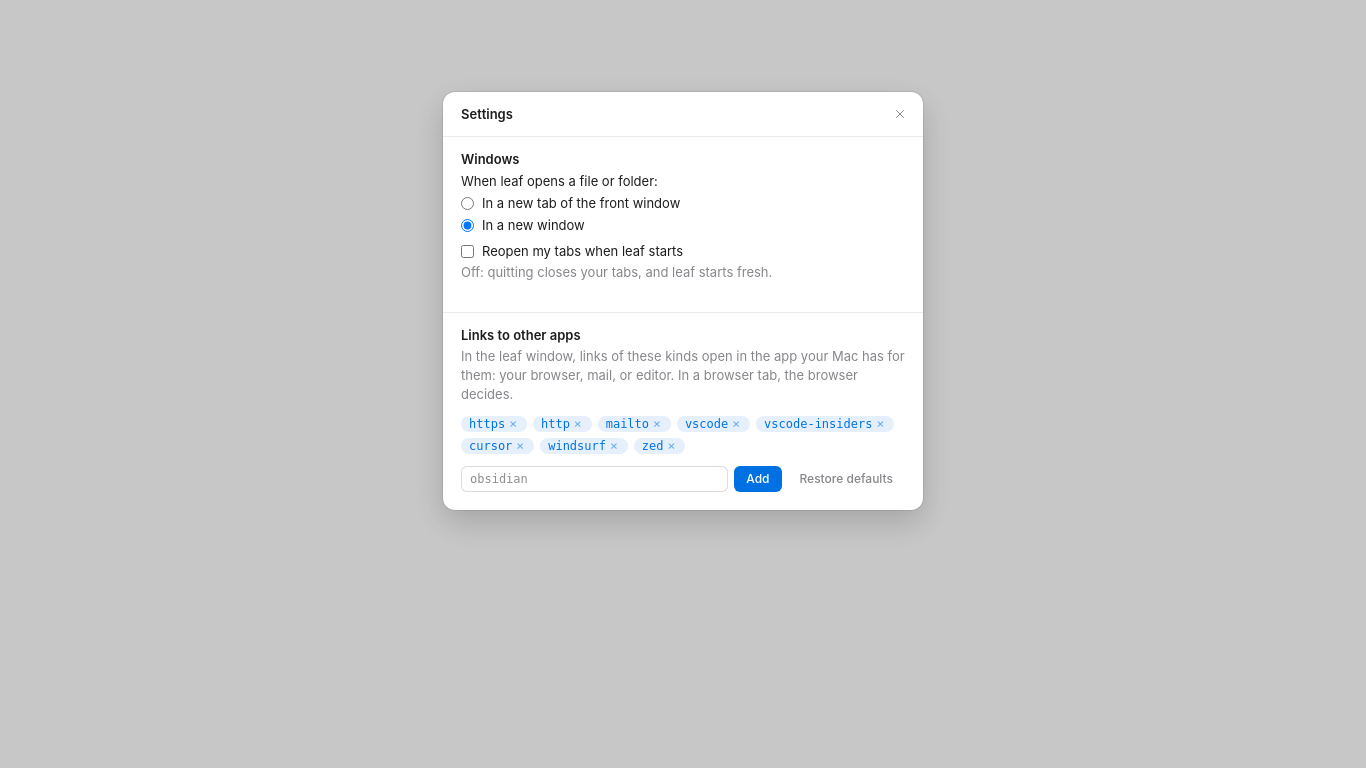
Test: Settings › refuses kinds that run code, and anything that isn’t a scheme, saying why
Type "javascript" into the field named "Add a link kind" at point(595, 478), box [461,466,728,492]
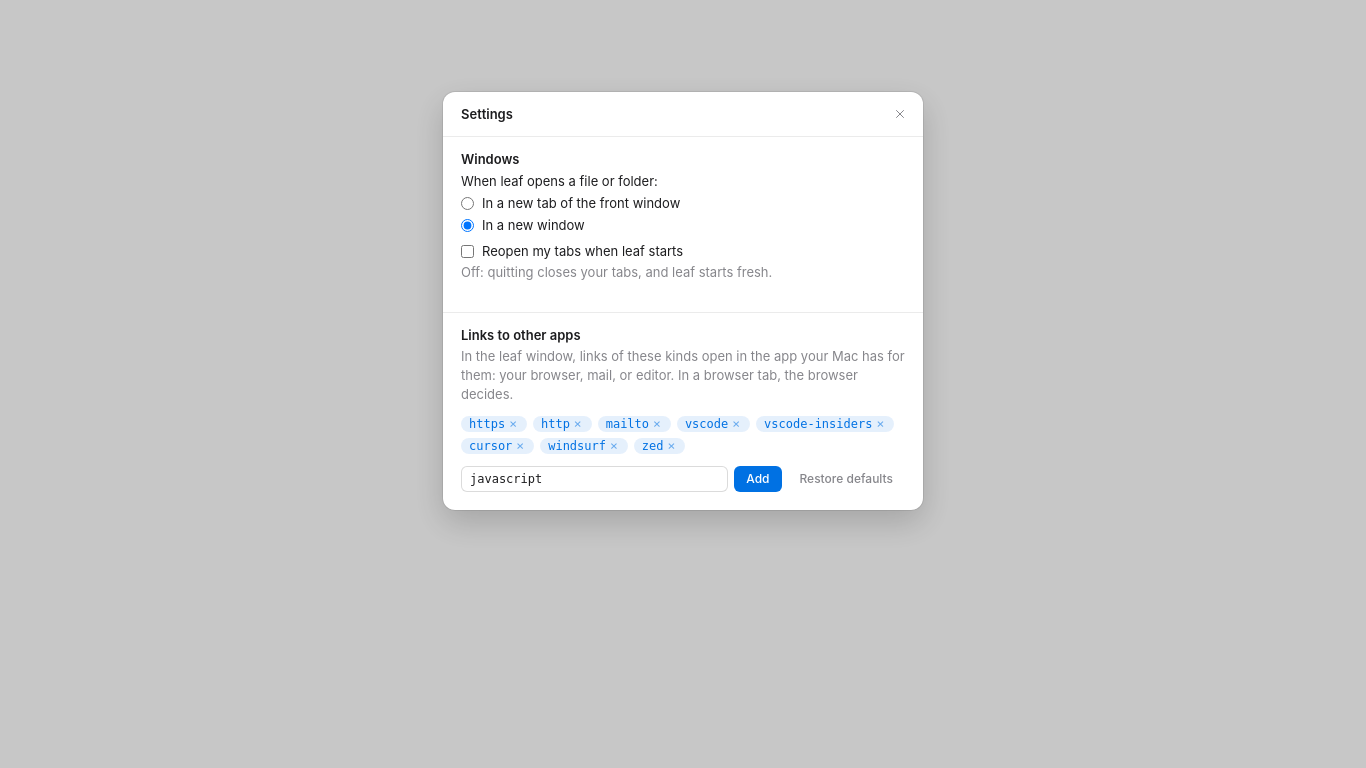
Submit the form named "Add a link kind", box [461,466,905,492]
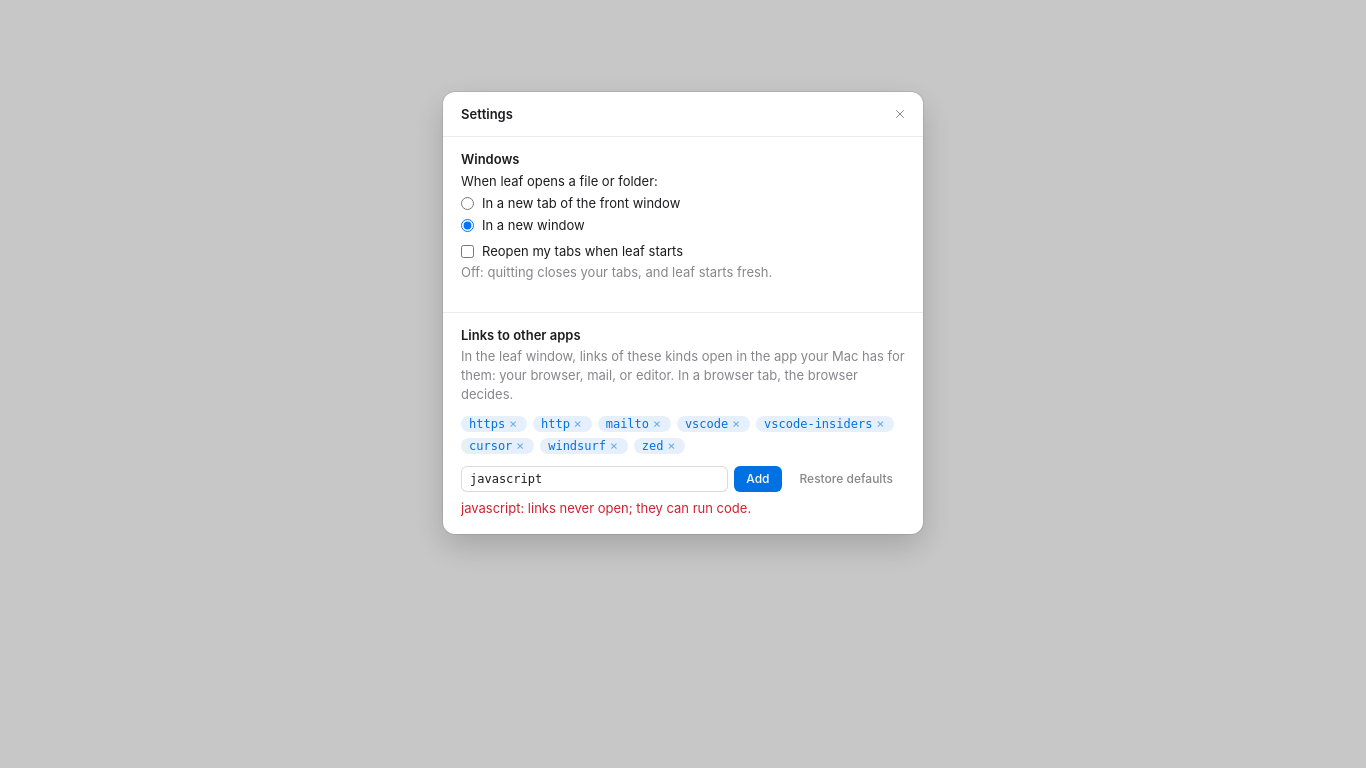
expect the message shows "javascript: links never open": met, box [461,500,751,516]
Replace the text in the field named "Add a link kind" with "not a scheme" at point(595, 478), box [461,466,728,492]
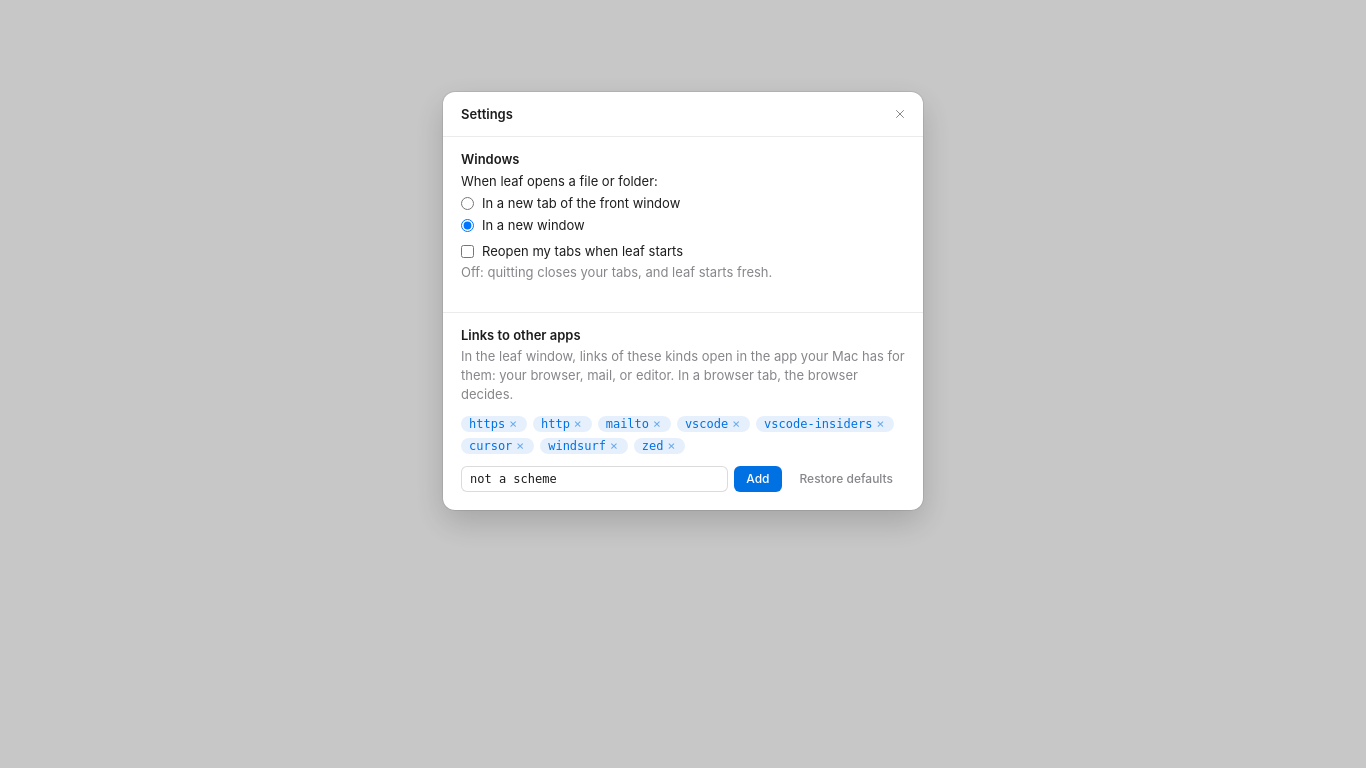
Submit the form named "Add a link kind", box [461,466,905,492]
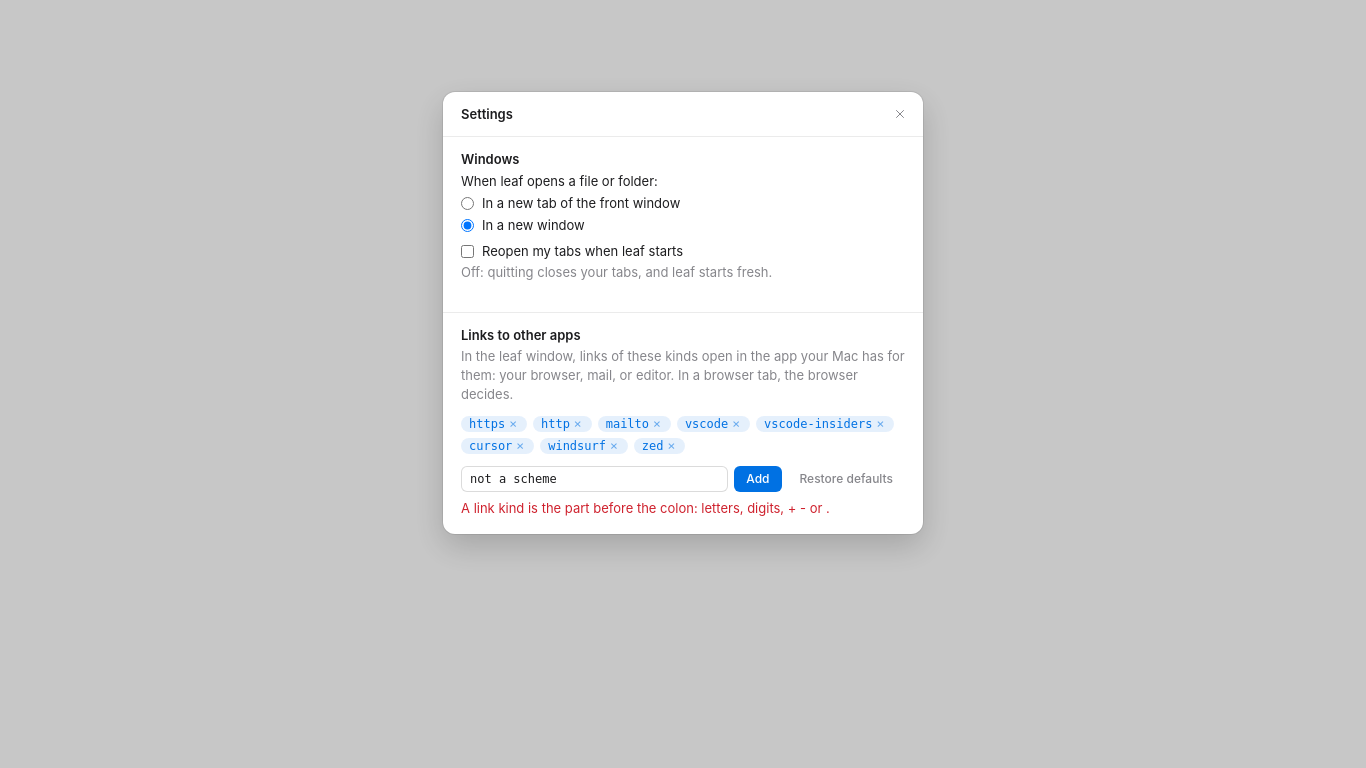
expect the message shows "letters": met, box [461,500,830,516]
